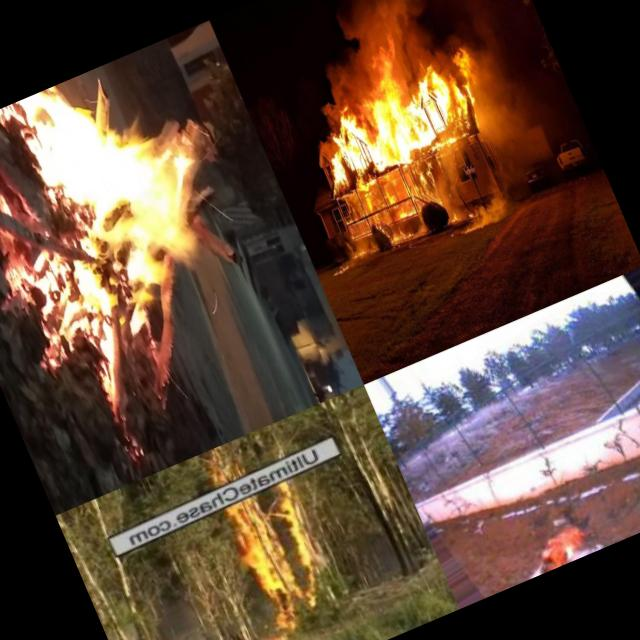fire: (58, 62, 364, 456), (298, 44, 503, 199), (222, 479, 336, 609), (333, 154, 446, 227), (523, 512, 596, 574), (357, 24, 407, 82), (245, 607, 304, 640)
smoke: (336, 187, 461, 271), (466, 92, 538, 176), (450, 168, 532, 238), (460, 15, 520, 101), (308, 29, 375, 102), (378, 0, 443, 68), (434, 146, 474, 195), (327, 0, 417, 20)
